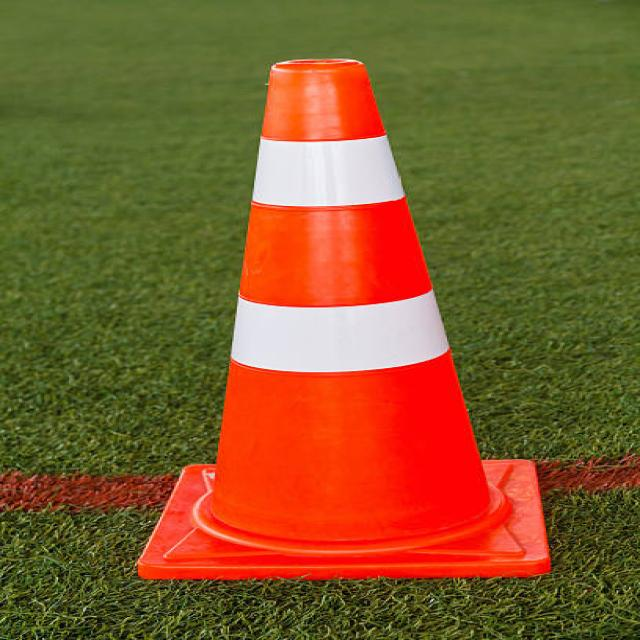Traffic Cone: (36, 19, 640, 606)
